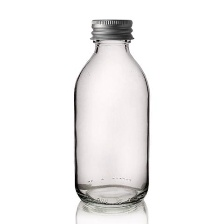bottle: (66, 15, 158, 209)
